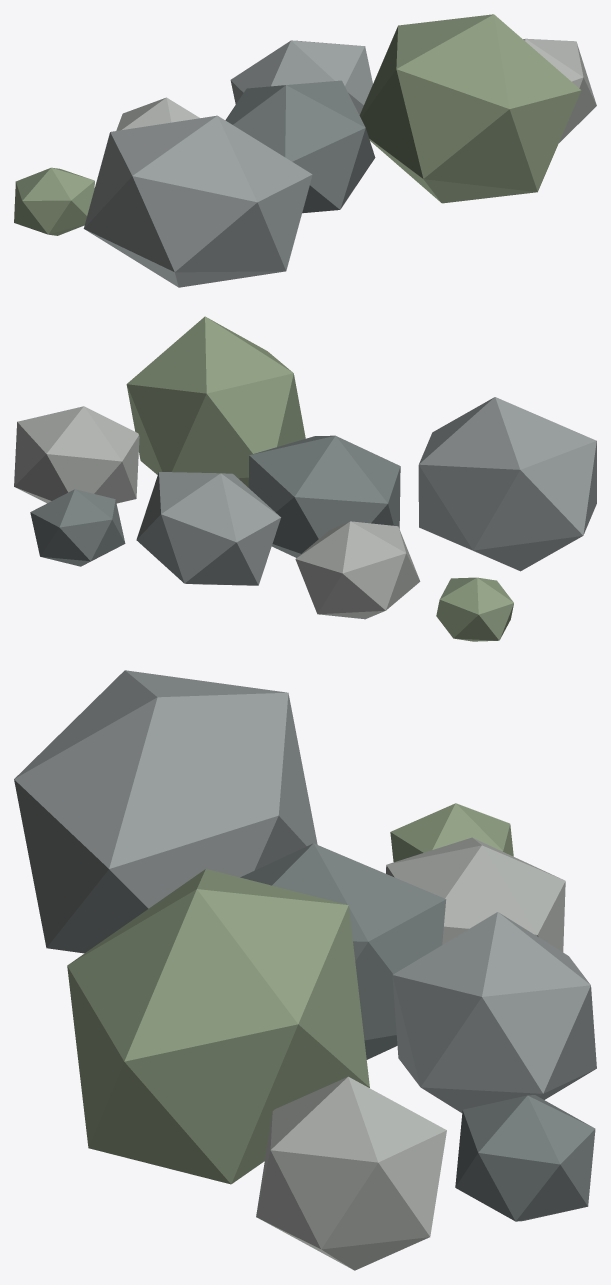
File: rubble_cluster_2x1p5.glb
3 renders of one model, top to bottom at view 1: azimuth 30°, elevation 25°; view 2: azimuth 150°, elevation 25°; view 3: azimuth 270°, elevation 25°, orthographic. The views are drawn at different scales.
Parts seen in each view (by area): view 1: rubble_03, rubble_01, rubble_02, rubble_06, rubble_08, rubble_04, rubble_05; view 2: rubble_01, rubble_03, rubble_06, rubble_02, rubble_04, rubble_05, rubble_07, rubble_08; view 3: rubble_03, rubble_01, rubble_06, rubble_04, rubble_02, rubble_07, rubble_05, rubble_08.
Boxes of the visible parts, <box> form: rubble_03: <box>359,14,581,203</box>; rubble_01: <box>83,115,312,287</box>; rubble_02: <box>225,80,375,213</box>; rubble_06: <box>230,40,372,114</box>; rubble_08: <box>14,167,94,235</box>; rubble_04: <box>523,38,596,142</box>; rubble_05: <box>116,97,199,130</box>; rubble_01: <box>418,397,596,571</box>; rubble_03: <box>126,316,305,487</box>; rubble_06: <box>136,472,280,585</box>; rubble_02: <box>248,435,400,557</box>; rubble_04: <box>14,406,139,503</box>; rubble_05: <box>295,521,420,619</box>; rubble_07: <box>30,489,125,566</box>; rubble_08: <box>436,577,513,641</box>; rubble_03: <box>67,869,369,1184</box>; rubble_01: <box>14,670,317,953</box>; rubble_06: <box>392,912,596,1112</box>; rubble_04: <box>256,1076,446,1270</box>; rubble_02: <box>240,843,446,1059</box>; rubble_07: <box>455,1095,595,1221</box>; rubble_05: <box>386,837,565,952</box>; rubble_08: <box>390,803,513,862</box>.
Size of the model in its own units: 1.98 by 0.6696 by 1.14.
